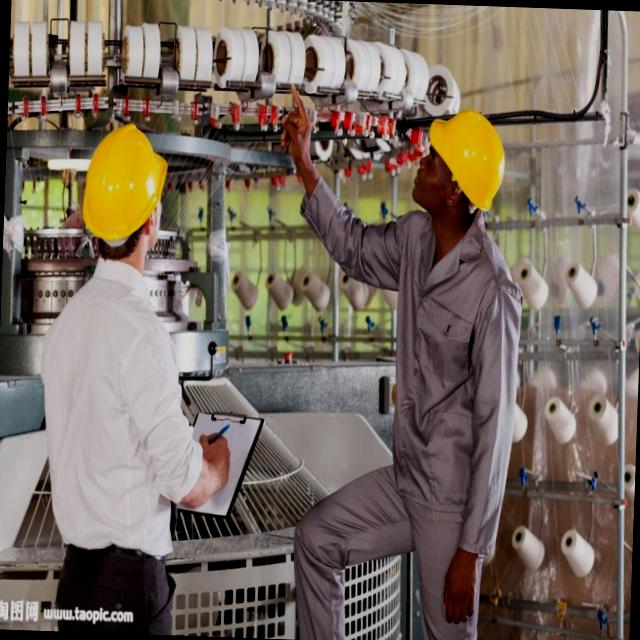helmet: (77, 119, 171, 253), (422, 108, 512, 218)
no-vest: (44, 240, 182, 562), (379, 215, 511, 536)
